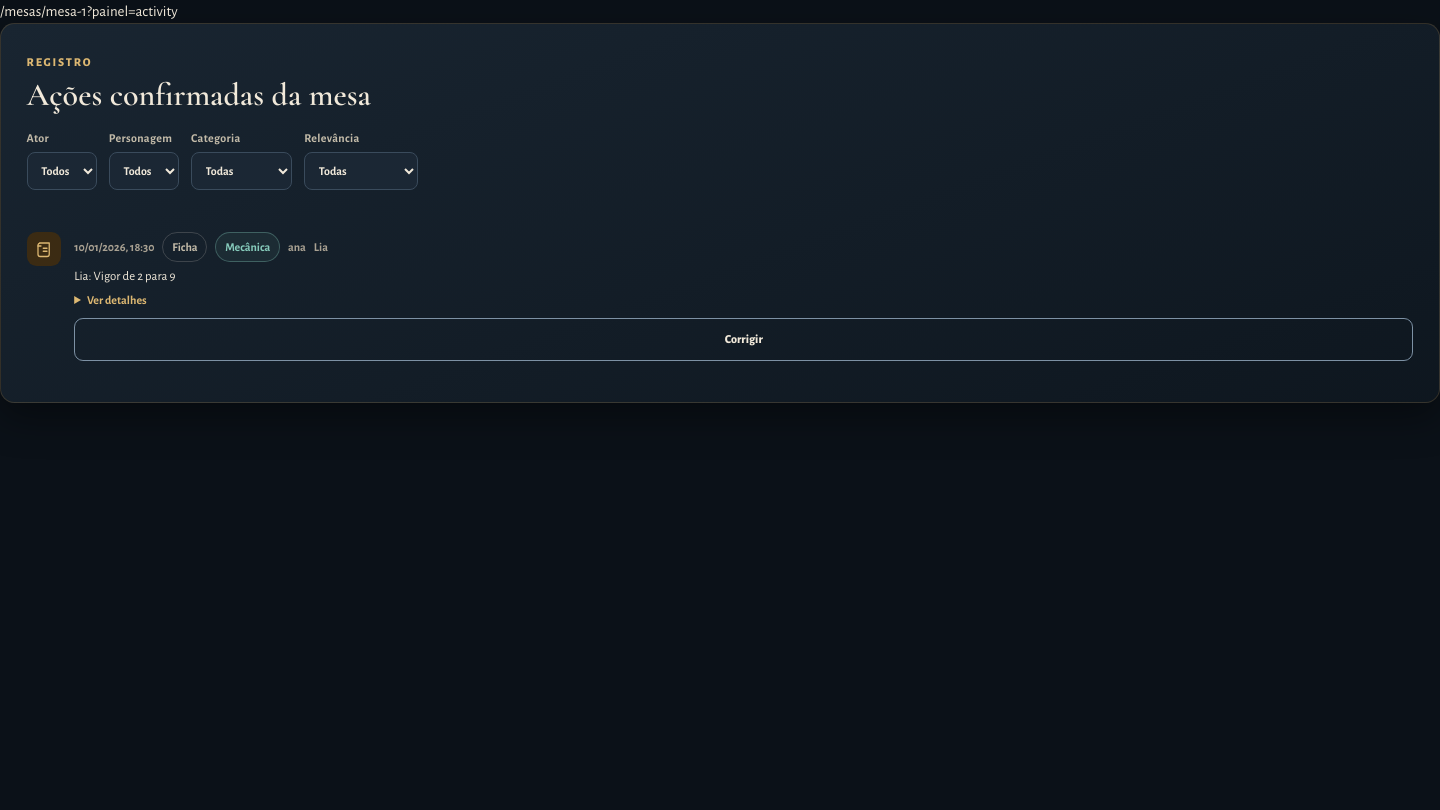
Test: AuditLog — 7.4/7.5/7.6 registro de auditoria › erro 409 ao corrigir mostra o detail no diálogo, que permanece aberto, sem alterar a lista
The image size is (1440, 810).
Check: the text "Lia: Vigor de 2 para 9" is shown, box [74,270,176,283]
Click the button "Corrigir".
click(744, 339)  # box [74,318,1413,361]
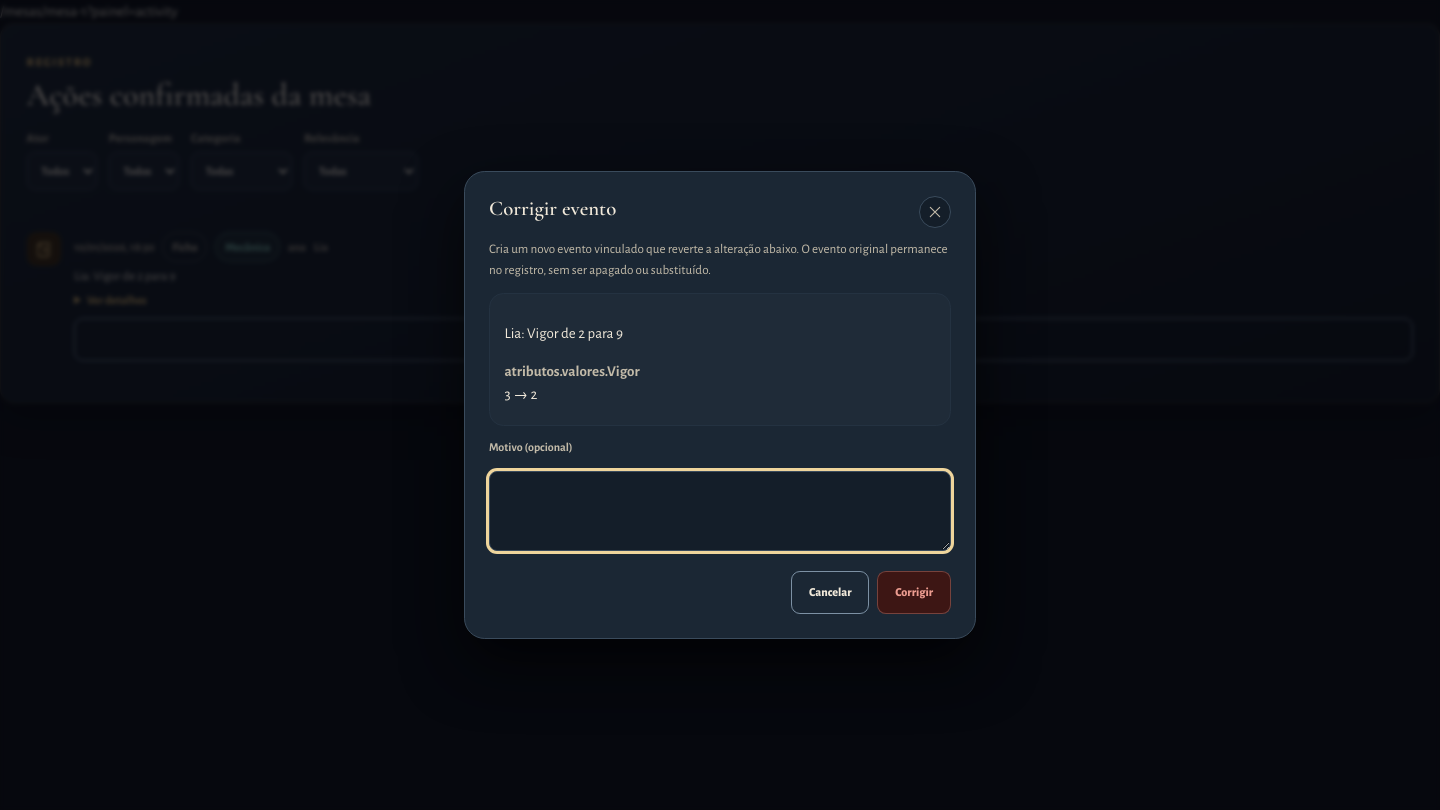
Click the button "Corrigir".
click(914, 592)  # box [878,571,951,614]
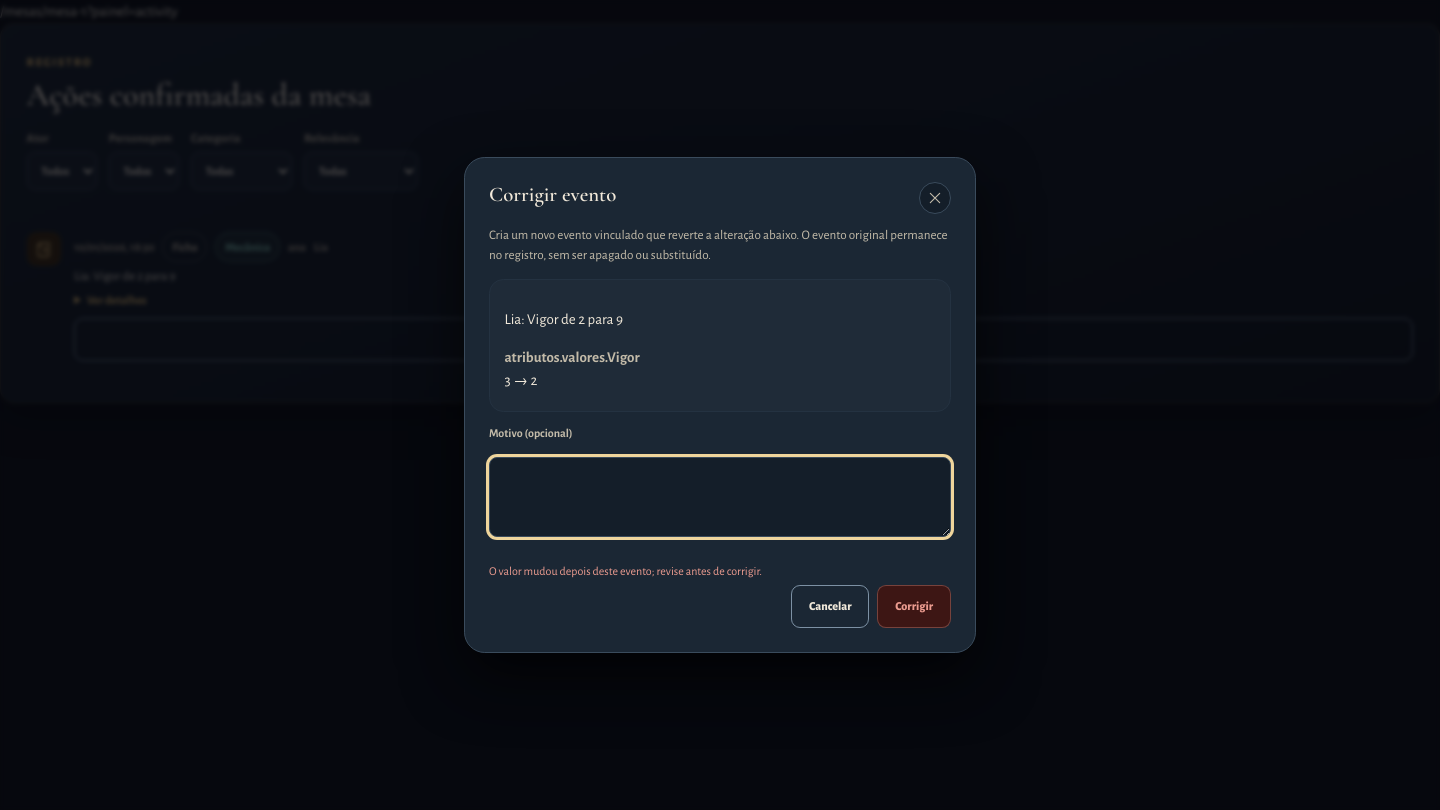
Check: the dialog is shown, box [464,157,976,653]
Check: the message reads "O valor mudou depois deste evento; revise antes de corrigir.", box [489,564,762,576]
